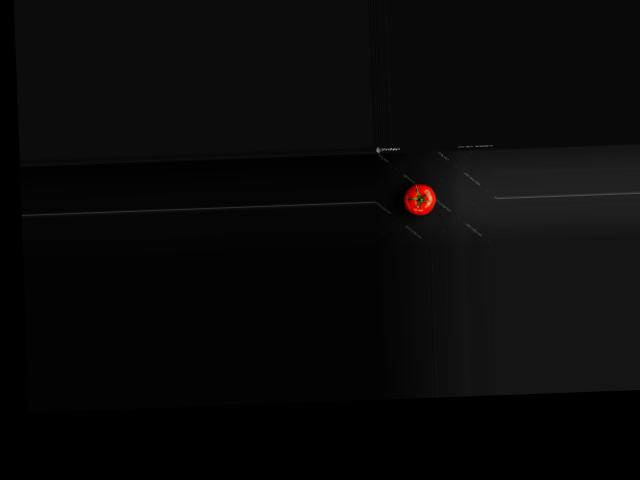tomato: (403, 182, 437, 215)
